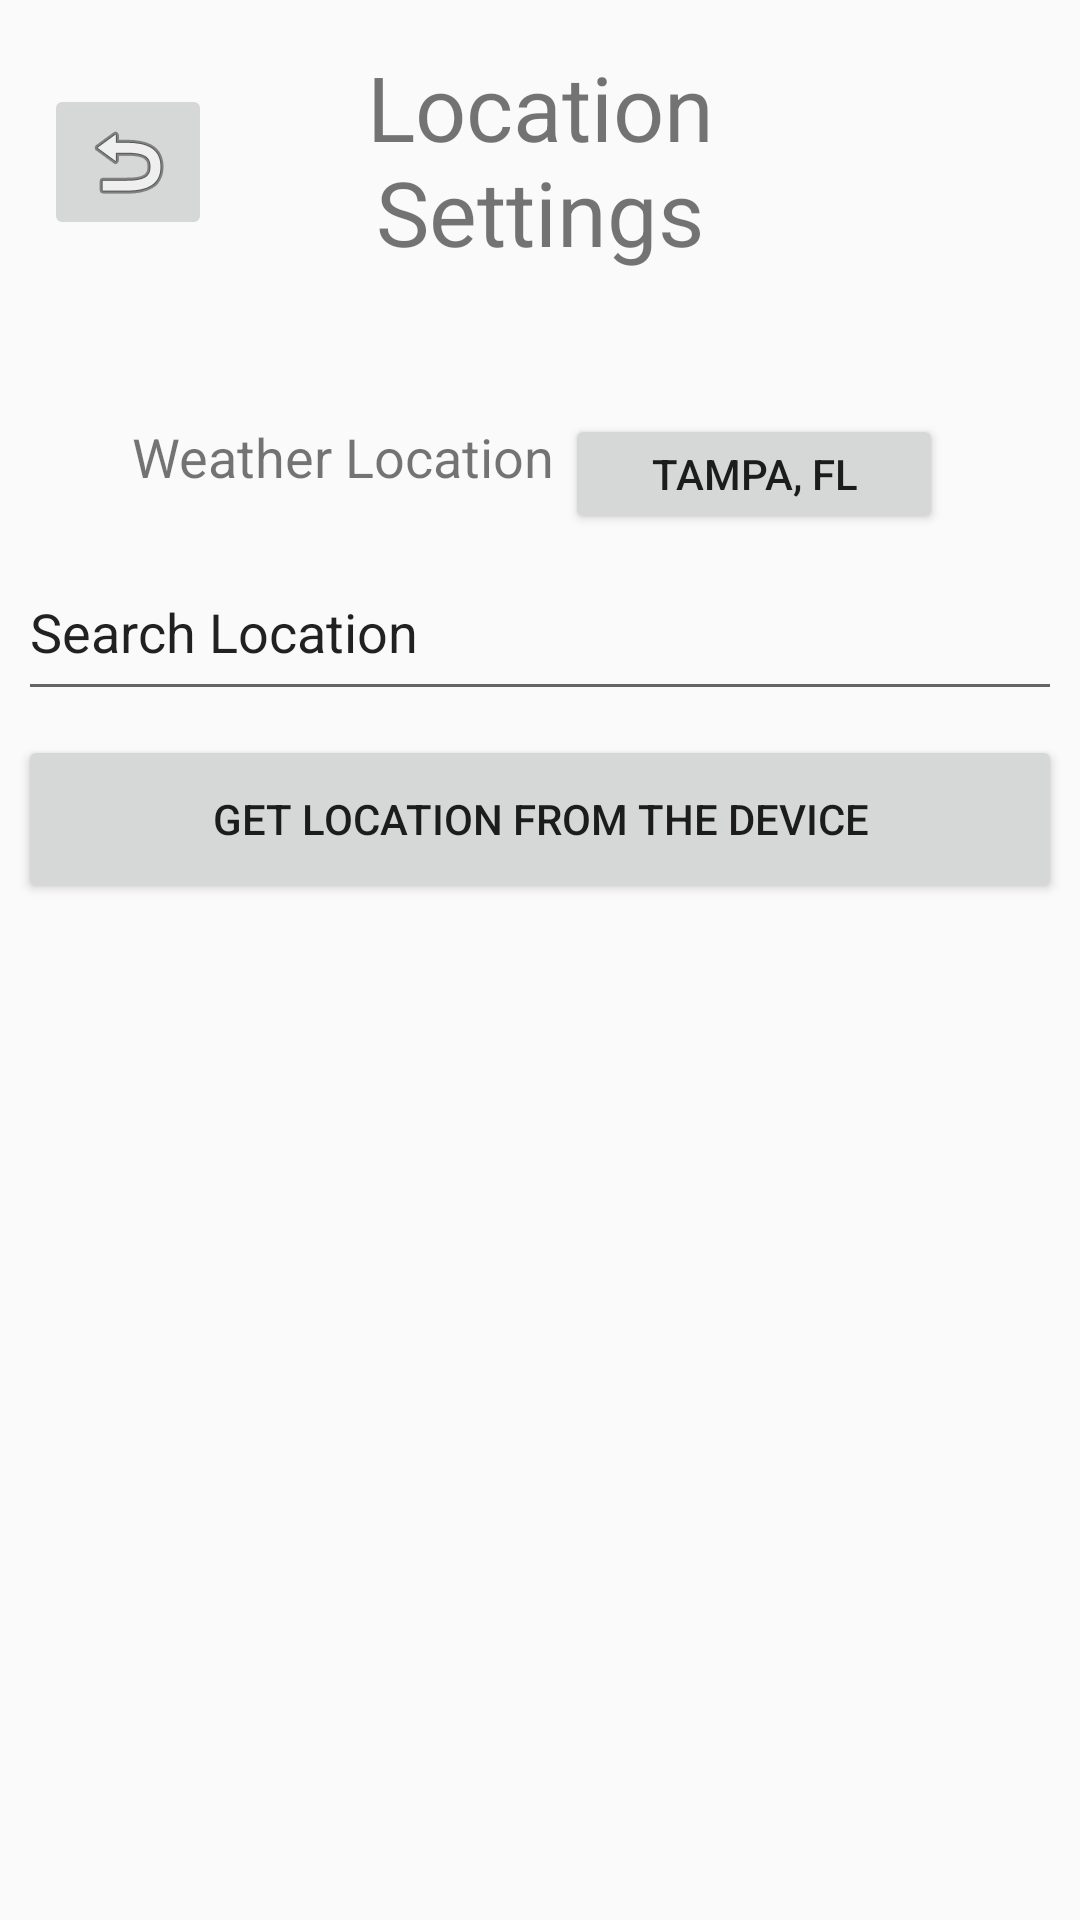

Point at icon controls on the screen. Image size 1080*1920, points as point (x, y).
revert: point (128, 162)
